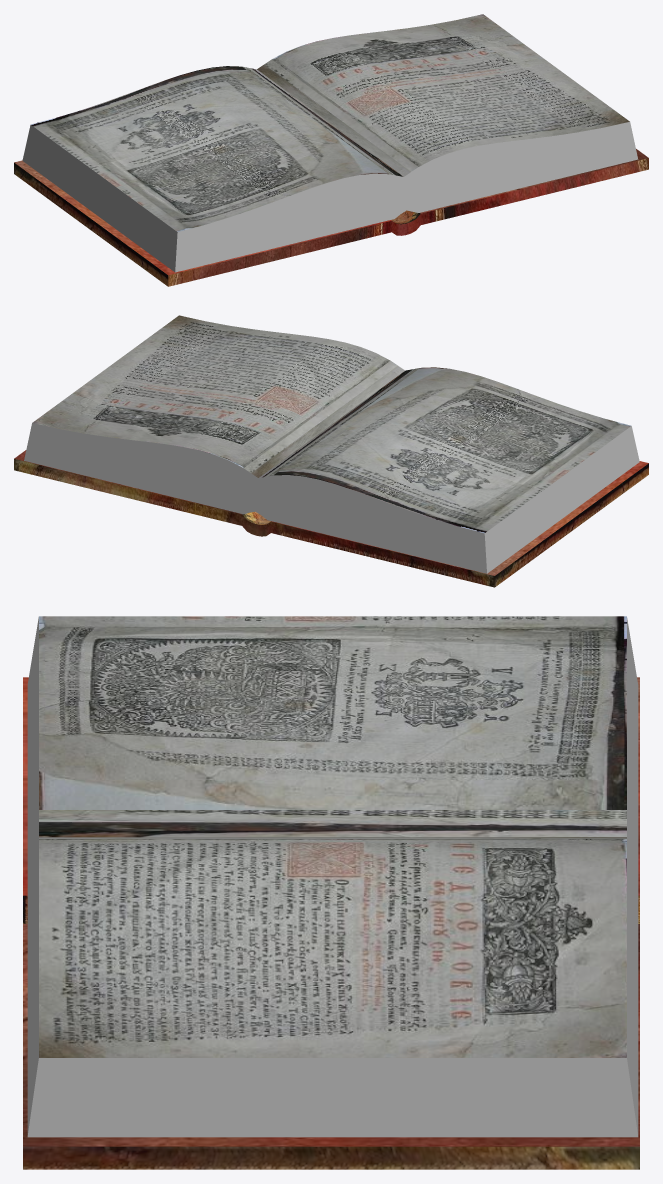
The model's file is Horror-Game-Assets.fbx.
3 renders of one model, top to bottom at view 1: azimuth 30°, elevation 25°; view 2: azimuth 150°, elevation 25°; view 3: azimuth 270°, elevation 25°, orthographic. The views are drawn at different scales.
Visible parts, largest first — view 1: BookOpen; view 2: BookOpen; view 3: BookOpen.
Part boxes in pixels (left/top/right/bottom): BookOpen: left=14, top=14, right=648, bottom=286; BookOpen: left=14, top=315, right=648, bottom=587; BookOpen: left=23, top=616, right=639, bottom=1169.
Size of the model in its own units: 339 by 46.04 by 188.
